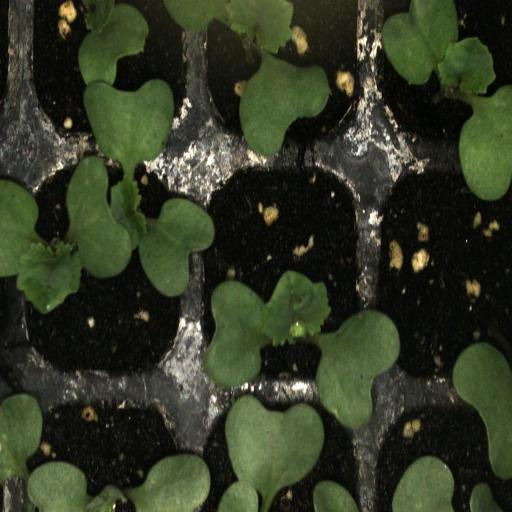noseedling: (371, 151, 512, 394)
seedling: (190, 156, 368, 393), (197, 0, 369, 152), (369, 0, 512, 153)
twoseedling: (11, 160, 196, 391)
